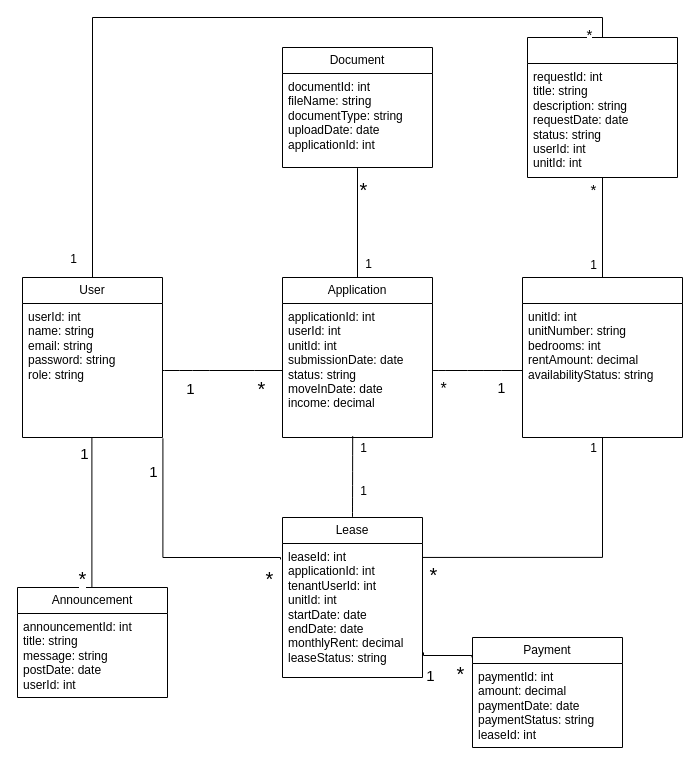
The diagram is 700 pixels wide and 768 high, and some of its shapes have lost their labels. The shapes that lost their labels are listed below. From the top down, each one's box as (x1, y1, x2, y2) in pixels, then its label:
(526, 36, 678, 178): MaintenanceRequest
(522, 276, 682, 438): ApartmentUnit
